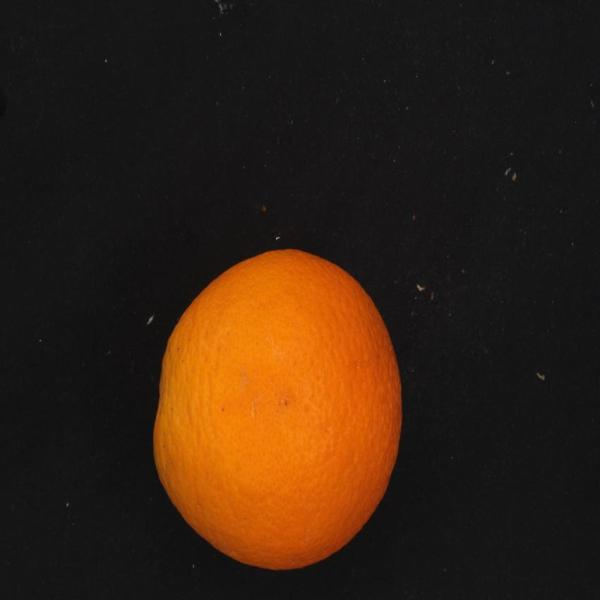Sana: (151, 238, 416, 578)
